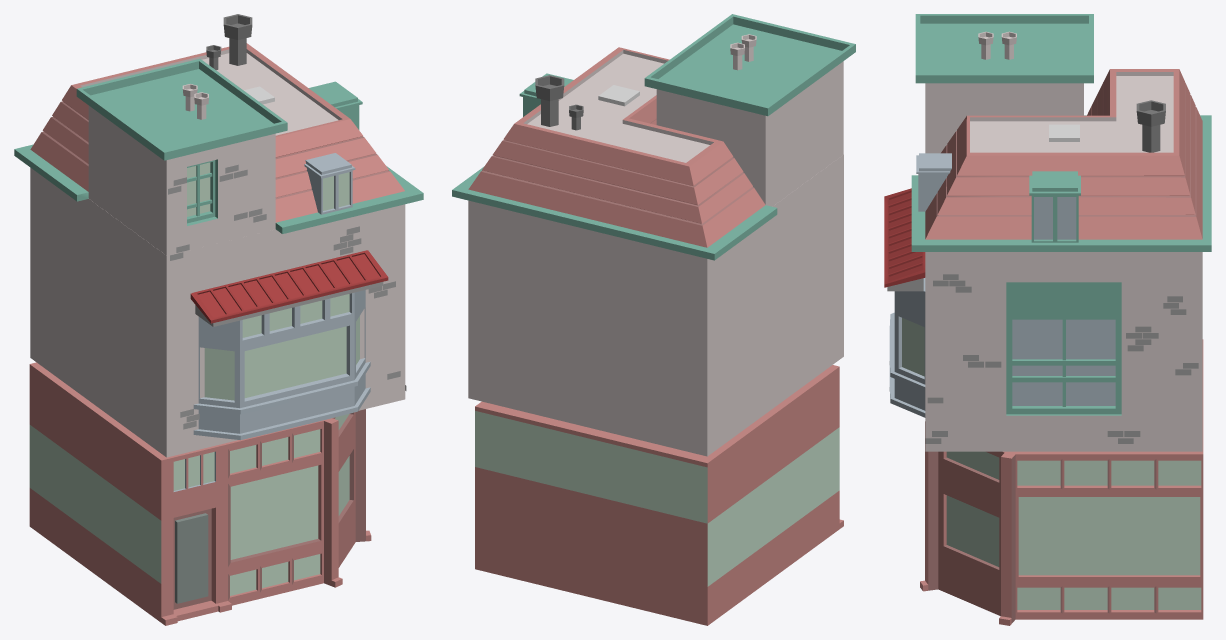
File: building_03.fbx
The picture shows the model from 3 angles, left to right: view 1: azimuth 30°, elevation 25°; view 2: azimuth 150°, elevation 25°; view 3: azimuth 270°, elevation 25°; orthographic projection.
Parts seen in each view (by area): view 1: polySurface48; view 2: polySurface48; view 3: polySurface48.
Boxes of the visible parts, left/top/right/bottom form: polySurface48: left=14, top=14, right=423, bottom=625; polySurface48: left=452, top=14, right=855, bottom=625; polySurface48: left=884, top=14, right=1211, bottom=625.
Bounding box in the file's own units: 9.92 × 17.83 × 10.56.
